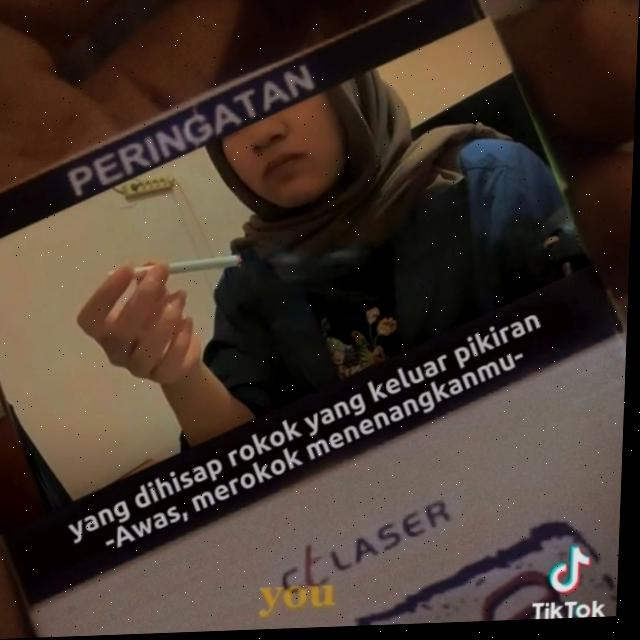cigarette: (135, 257, 245, 280)
